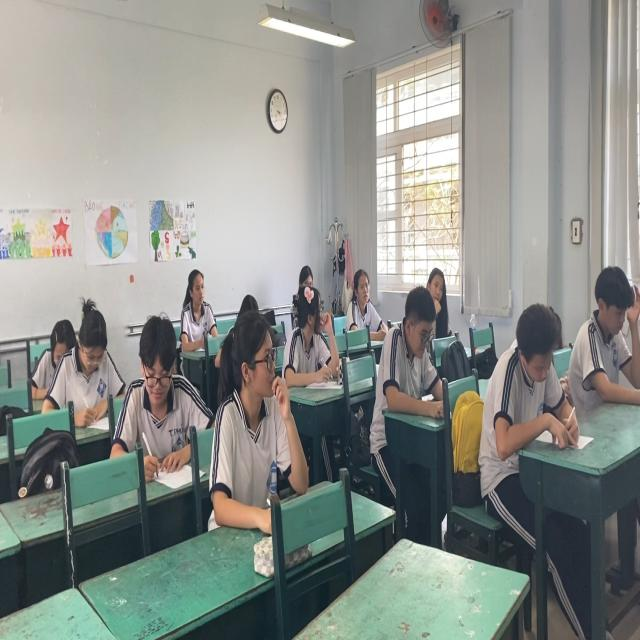cheating: (212, 316, 300, 509), (273, 260, 334, 391)
not_cheating: (496, 296, 575, 448), (382, 284, 447, 426), (128, 319, 192, 461), (46, 294, 122, 412), (570, 261, 630, 398), (340, 247, 383, 340), (177, 260, 217, 342), (423, 261, 453, 336)
